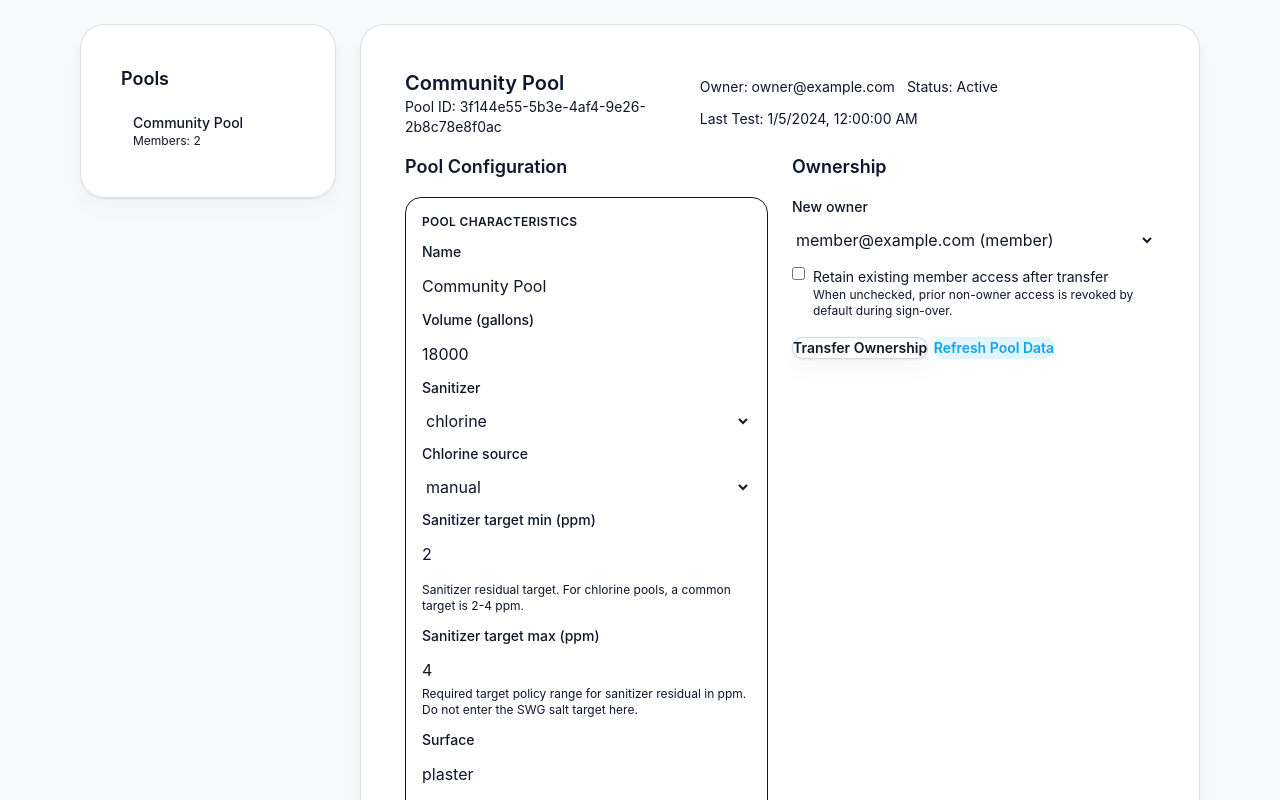
Test: admin pools page › transfers ownership to a selected member
The image size is (1280, 800).
Select "member@example.com (member)" in the dropdown labelled "New owner". click: (974, 240)
box: [792,229,1155,251]
Click the button "Transfer Ownership". click: (860, 348)
box: [792,337,928,359]
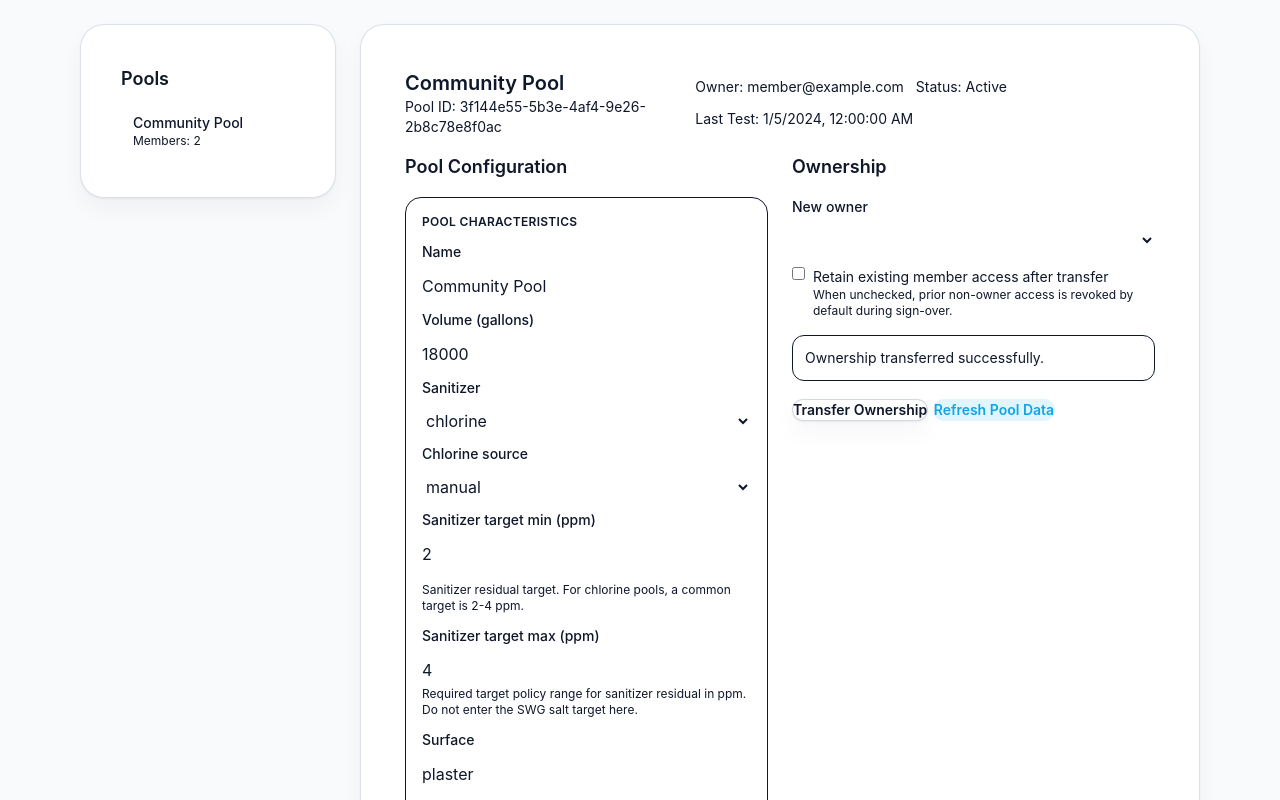
expect the text "Owner: member@example.com" is shown: met, box [695,77,904,97]
